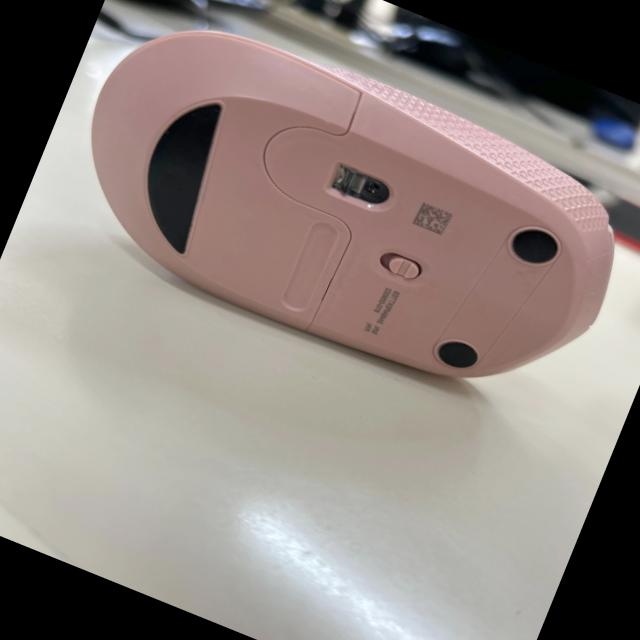inorganic: (41, 0, 640, 434)
